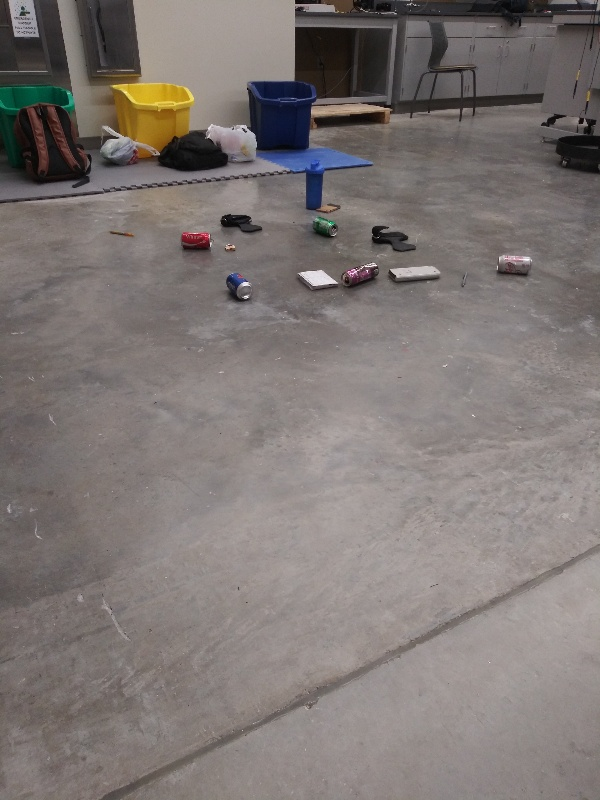can: (338, 260, 381, 290), (494, 251, 538, 278), (224, 268, 255, 302), (178, 229, 214, 254), (308, 214, 341, 240)
